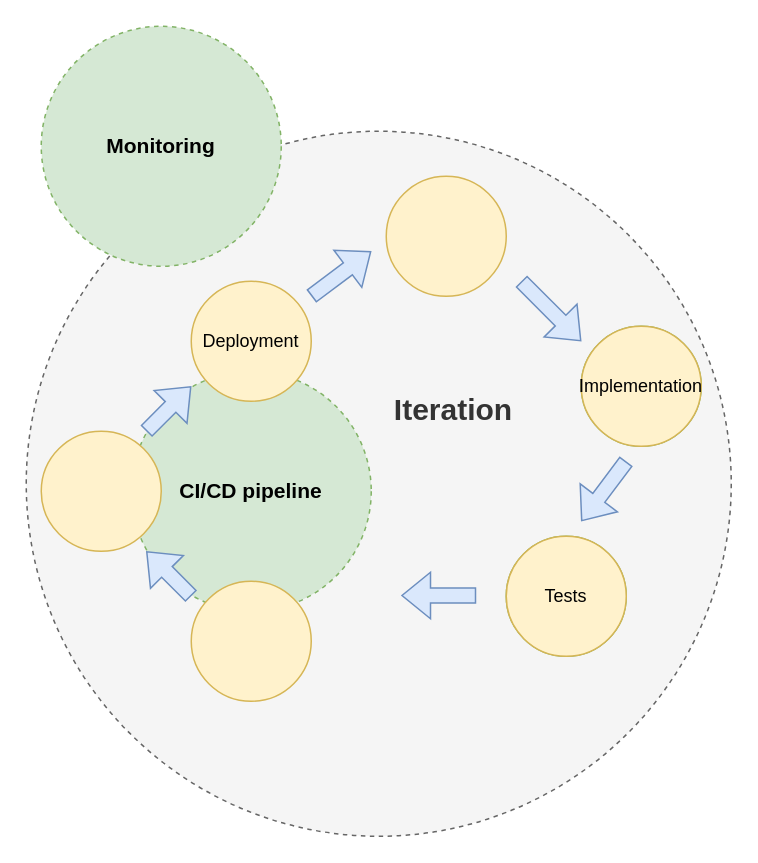
Image size: 758x863. Some labels were removed from this diagram. Each missing label, with the box of its shape:
Acceptance Stage: (40, 430, 161, 551)
Commit Stage: (190, 580, 311, 701)
Requirements: (385, 175, 506, 296)
